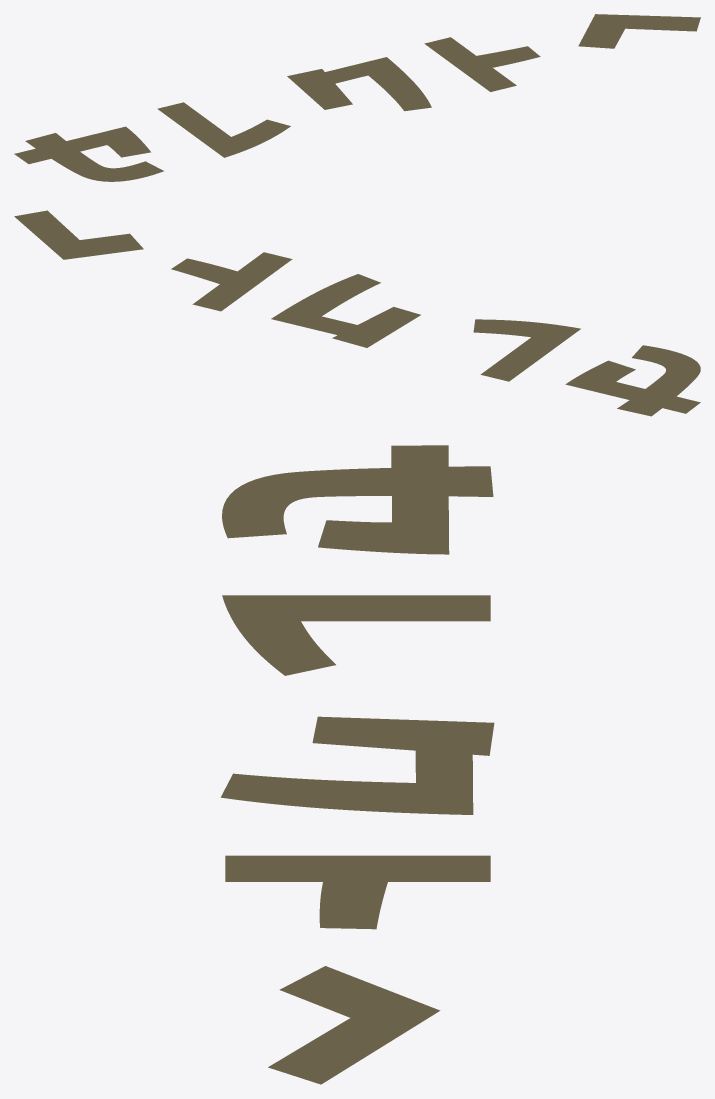
File: backSelect.obj
3 renders of one model, top to bottom at view 1: azimuth 30°, elevation 25°; view 2: azimuth 150°, elevation 25°; view 3: azimuth 270°, elevation 25°, orthographic. The views are drawn at different scales.
Parts seen in each view (by area): view 1: テキスト; view 2: テキスト; view 3: テキスト.
Boxes of the visible parts, x1,y1,x2,y2 form: テキスト: (14, 14, 700, 181); テキスト: (14, 210, 700, 416); テキスト: (220, 445, 494, 1084).
Bounding box in the file's own units: 3.11 × 0 × 0.5628.
